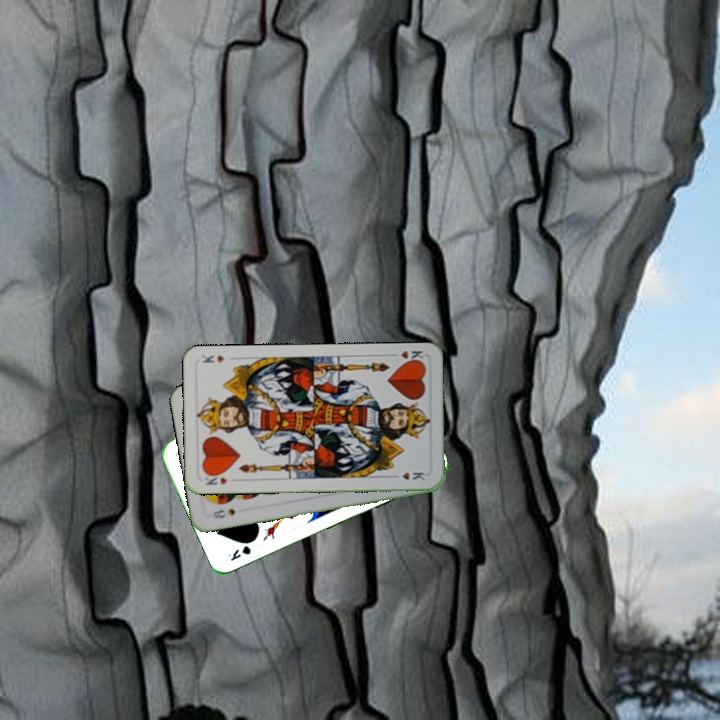GK: (224, 541, 253, 564)
HK: (386, 346, 427, 366), (201, 469, 230, 487)
S8: (209, 505, 238, 521)
